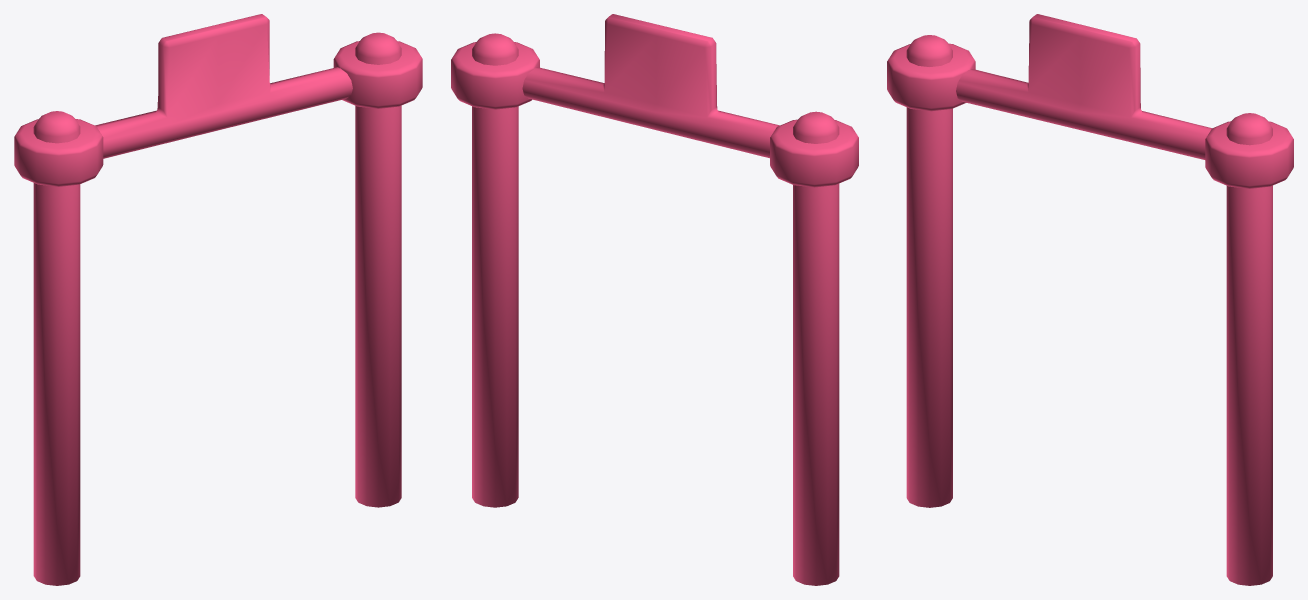
File: aaa.fbx
The picture shows the model from 3 angles, left to right: view 1: azimuth 30°, elevation 25°; view 2: azimuth 150°, elevation 25°; view 3: azimuth 330°, elevation 25°; orthographic projection.
Visible parts, largest first — view 1: Cylinder.003; view 2: Cylinder.003; view 3: Cylinder.003.
Part boxes in pixels (x1,y1,x2,y2): Cylinder.003: [14, 14, 422, 585]; Cylinder.003: [451, 14, 858, 585]; Cylinder.003: [887, 14, 1293, 585].
Bounding box in the file's own units: 389 × 479 × 75.61.
